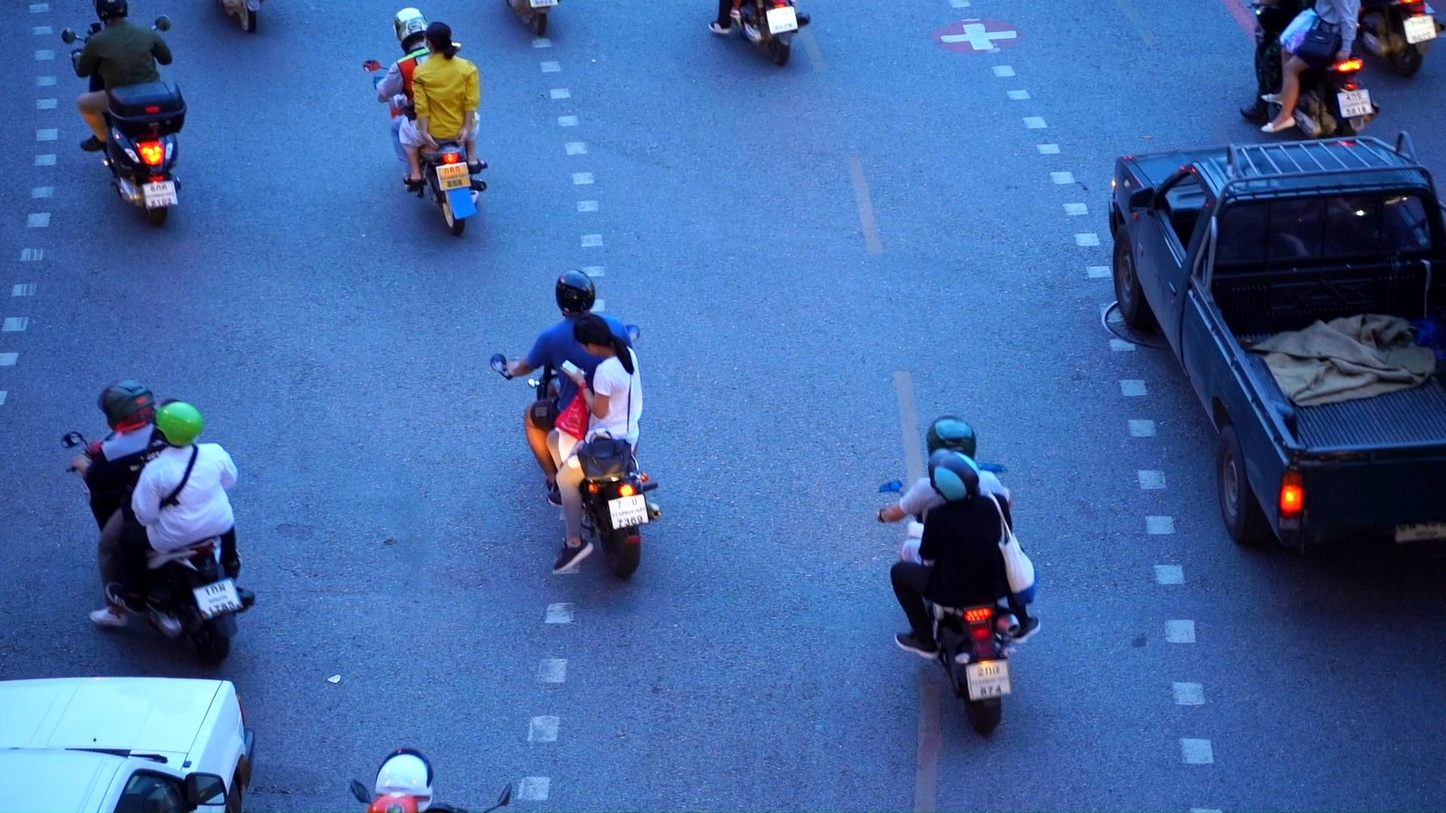driver: (59, 376, 256, 666), (489, 269, 661, 579), (877, 415, 1041, 738), (361, 7, 488, 238), (62, 0, 187, 225), (1240, 0, 1381, 137), (708, 0, 810, 67)
helmet: (375, 747, 434, 813), (97, 378, 156, 434), (927, 448, 979, 504), (151, 398, 204, 449), (926, 415, 976, 460), (555, 269, 596, 318), (391, 7, 429, 51), (367, 792, 418, 813), (91, 0, 129, 26)
no-helmet: (572, 313, 633, 360), (424, 21, 459, 61)
